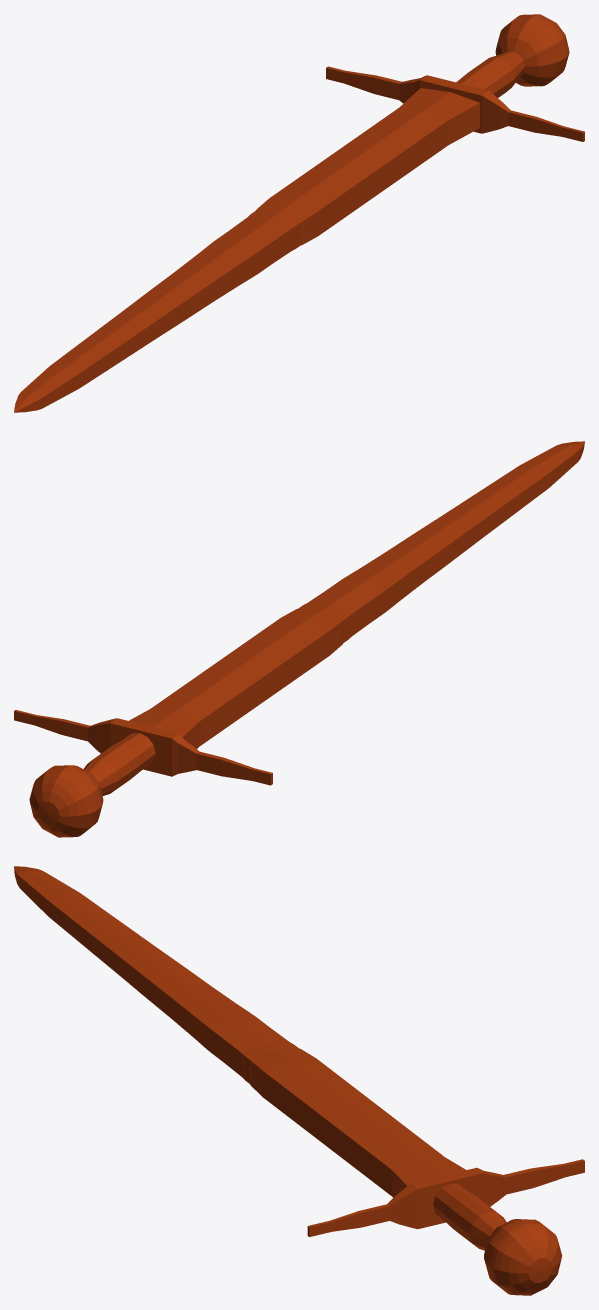
The picture shows the model from 3 angles, top to bottom: view 1: azimuth 30°, elevation 25°; view 2: azimuth 210°, elevation 25°; view 3: azimuth 270°, elevation 25°; orthographic projection. The views are drawn at different scales.
Visible parts, largest first — view 1: Cube.001; view 2: Cube.001; view 3: Cube.001.
Boxes of the visible parts, x1=… form: Cube.001: x1=14, y1=14, x2=584, y2=412; Cube.001: x1=14, y1=441, x2=584, y2=837; Cube.001: x1=14, y1=866, x2=584, y2=1295.
Bounding box in the file's own units: 898 × 73.08 × 530.
